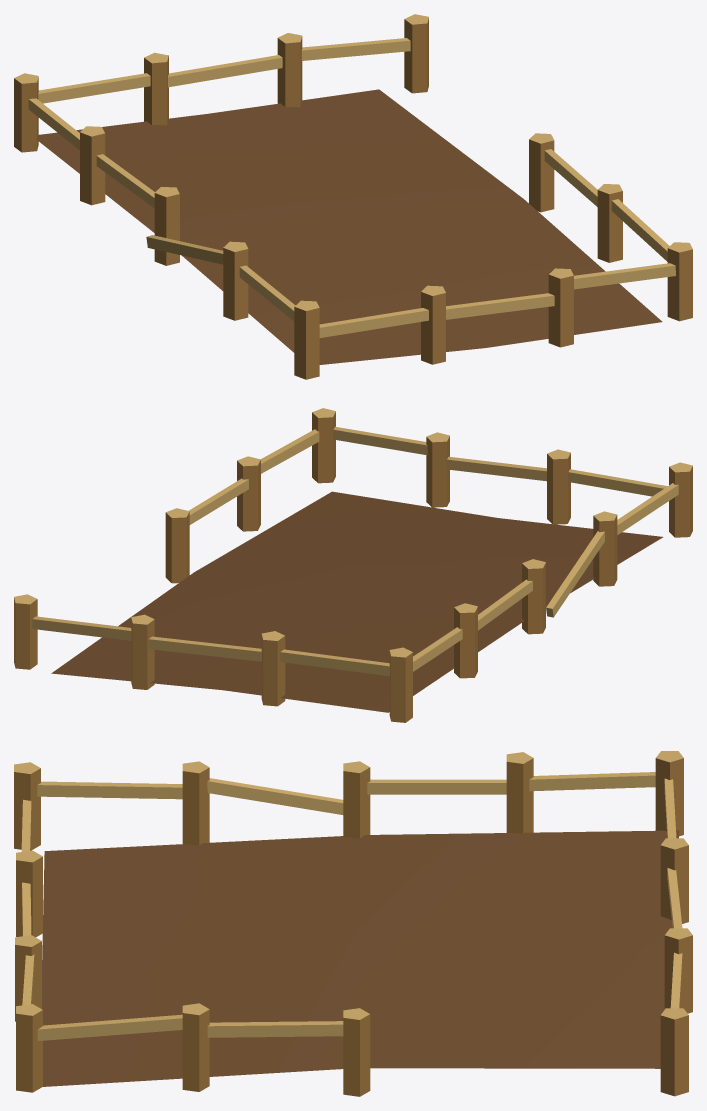
File: farm1.FBX
3 renders of one model, top to bottom at view 1: azimuth 30°, elevation 25°; view 2: azimuth 150°, elevation 25°; view 3: azimuth 270°, elevation 25°, orthographic. The views are drawn at different scales.
Parts seen in each view (by area): view 1: Plane018; view 2: Plane018; view 3: Plane018.
Part boxes in pixels (x1,y1,x2,y2): Plane018: [14, 14, 692, 379]; Plane018: [14, 408, 692, 722]; Plane018: [14, 751, 692, 1096].
Bounding box in the file's own units: 19.66 × 5.46 × 24.35.
Materials: 1 (1 with a texture image).
